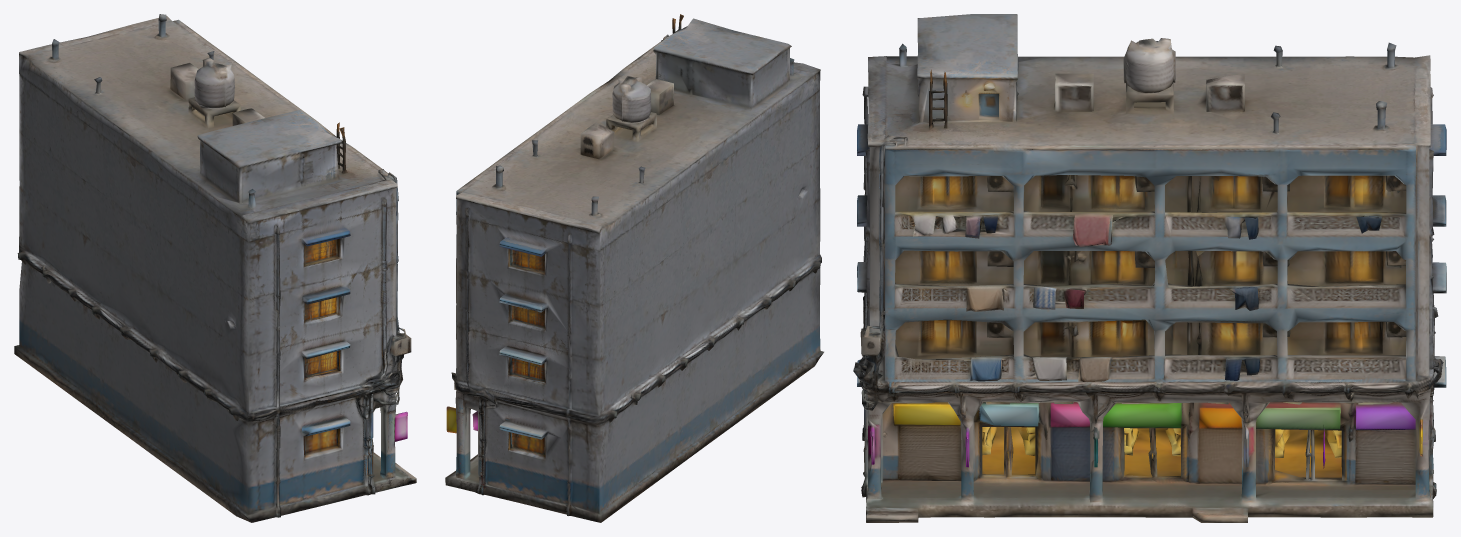
File: old_block.glb
3 renders of one model, left to right at view 1: azimuth 30°, elevation 25°; view 2: azimuth 150°, elevation 25°; view 3: azimuth 270°, elevation 25°, orthographic. The views are drawn at different scales.
Visible parts, largest first — view 1: tripo_node_1f81e0ca-f938-488e-9aa3-b51ddd978d7a; view 2: tripo_node_1f81e0ca-f938-488e-9aa3-b51ddd978d7a; view 3: tripo_node_1f81e0ca-f938-488e-9aa3-b51ddd978d7a.
Boxes of the visible parts, x1,y1,x2,y2 form: tripo_node_1f81e0ca-f938-488e-9aa3-b51ddd978d7a: [14, 14, 416, 522]; tripo_node_1f81e0ca-f938-488e-9aa3-b51ddd978d7a: [445, 14, 823, 522]; tripo_node_1f81e0ca-f938-488e-9aa3-b51ddd978d7a: [853, 14, 1446, 522].
Size of the model in its own units: 0.4187 by 0.8061 by 1.
Materials: 1 (1 with a texture image).
